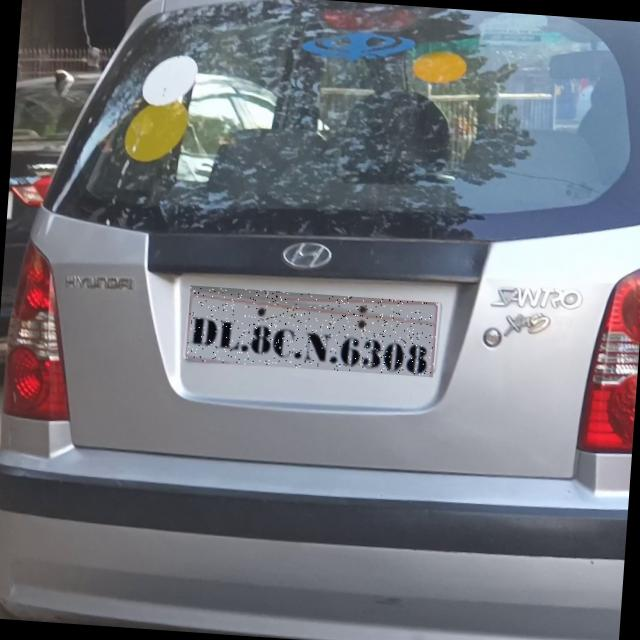Plate: (186, 286, 439, 378)
